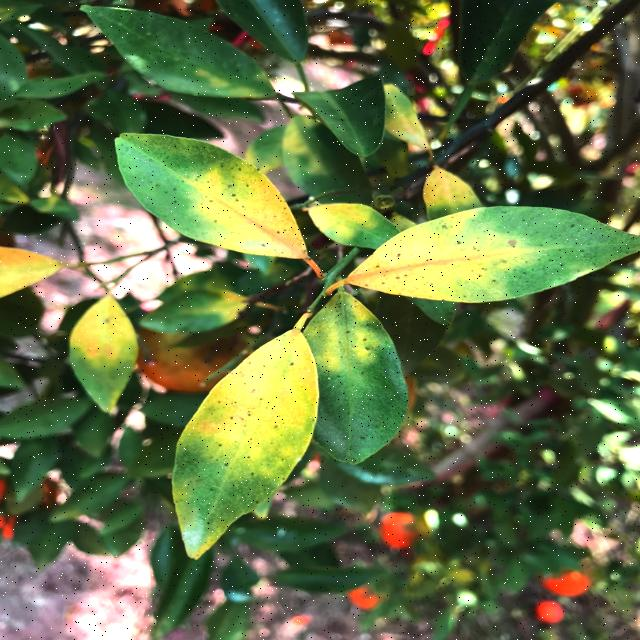blackspot: (173, 318, 317, 552), (343, 209, 640, 307), (124, 139, 307, 262), (308, 292, 407, 469)
